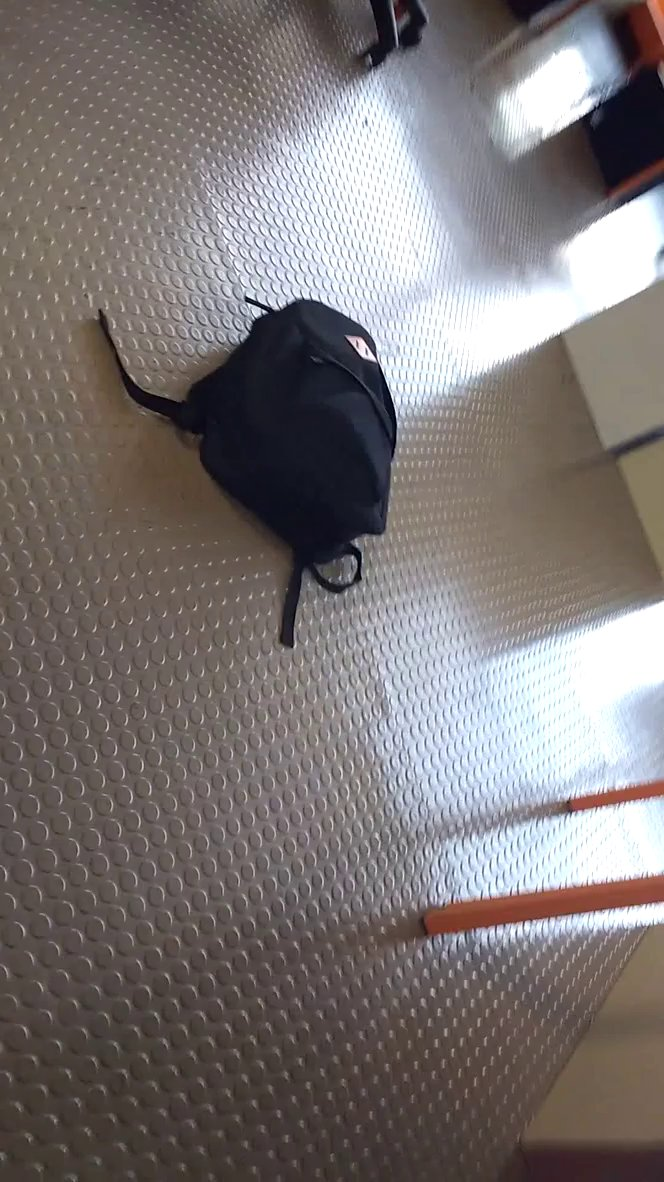bag: (92, 279, 406, 662)
